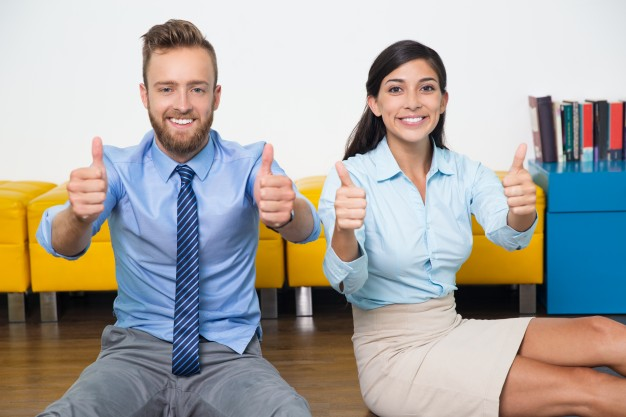thumbsup: (257, 143, 296, 226), (66, 136, 106, 215), (502, 143, 538, 216), (334, 160, 368, 230)
